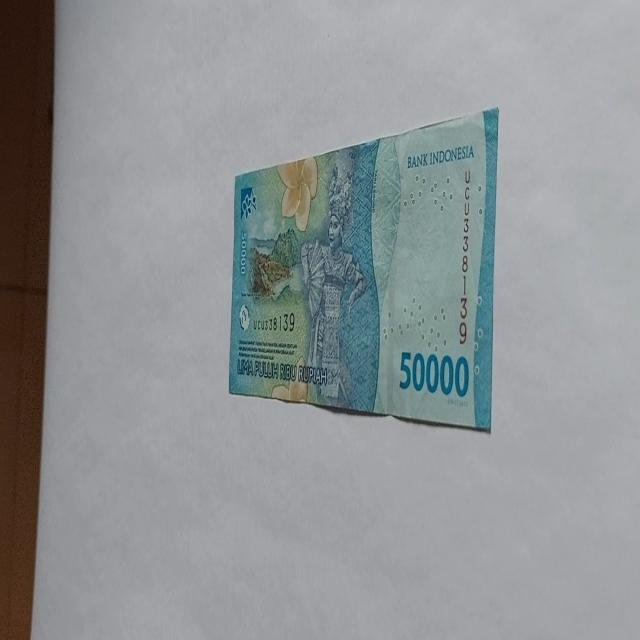lima puluh ribu rupiah: (227, 105, 499, 434)
